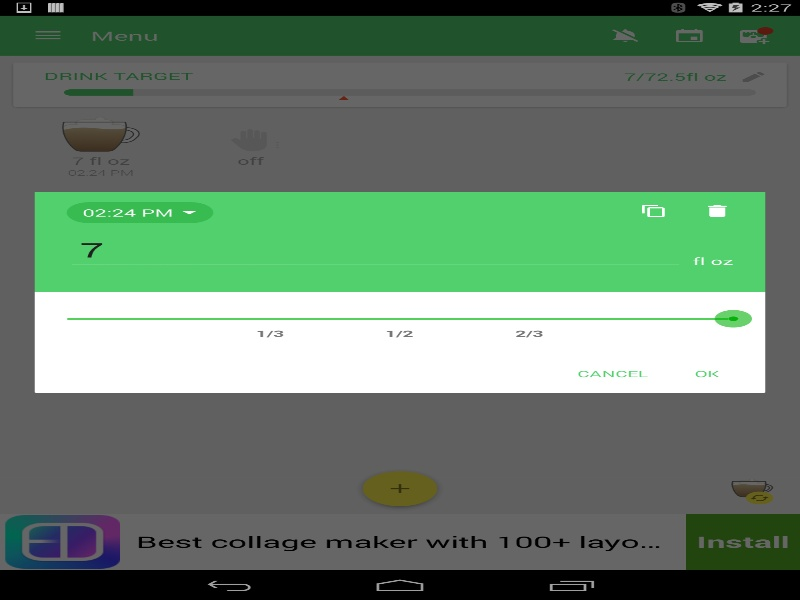Button: (561, 356, 664, 390), (664, 356, 749, 390)
Input: (66, 230, 684, 269)
